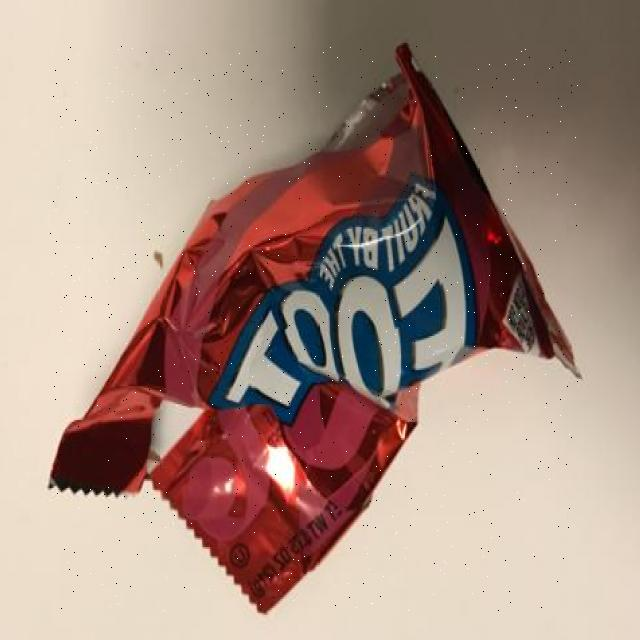wrapper: (51, 46, 578, 613)
